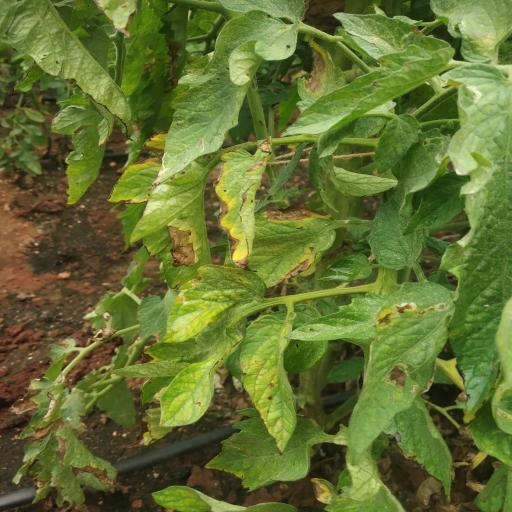Early Blight: (343, 280, 456, 466), (102, 128, 208, 270), (236, 315, 301, 458), (210, 136, 276, 274), (253, 202, 339, 290), (292, 36, 353, 114)
